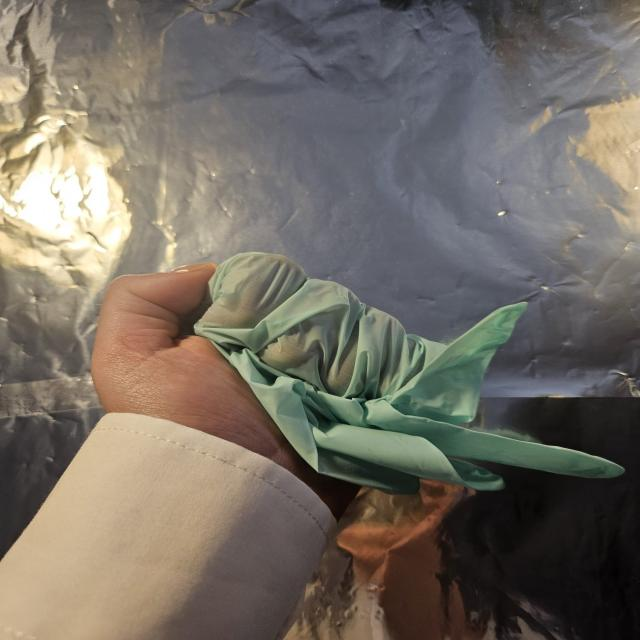glove_partial: (86, 252, 628, 518)
